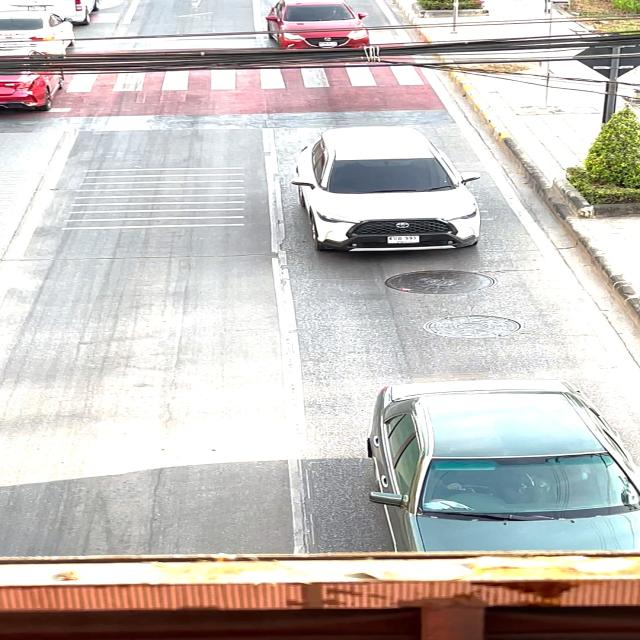car: (350, 369, 640, 561), (282, 117, 495, 269), (255, 0, 383, 66)
